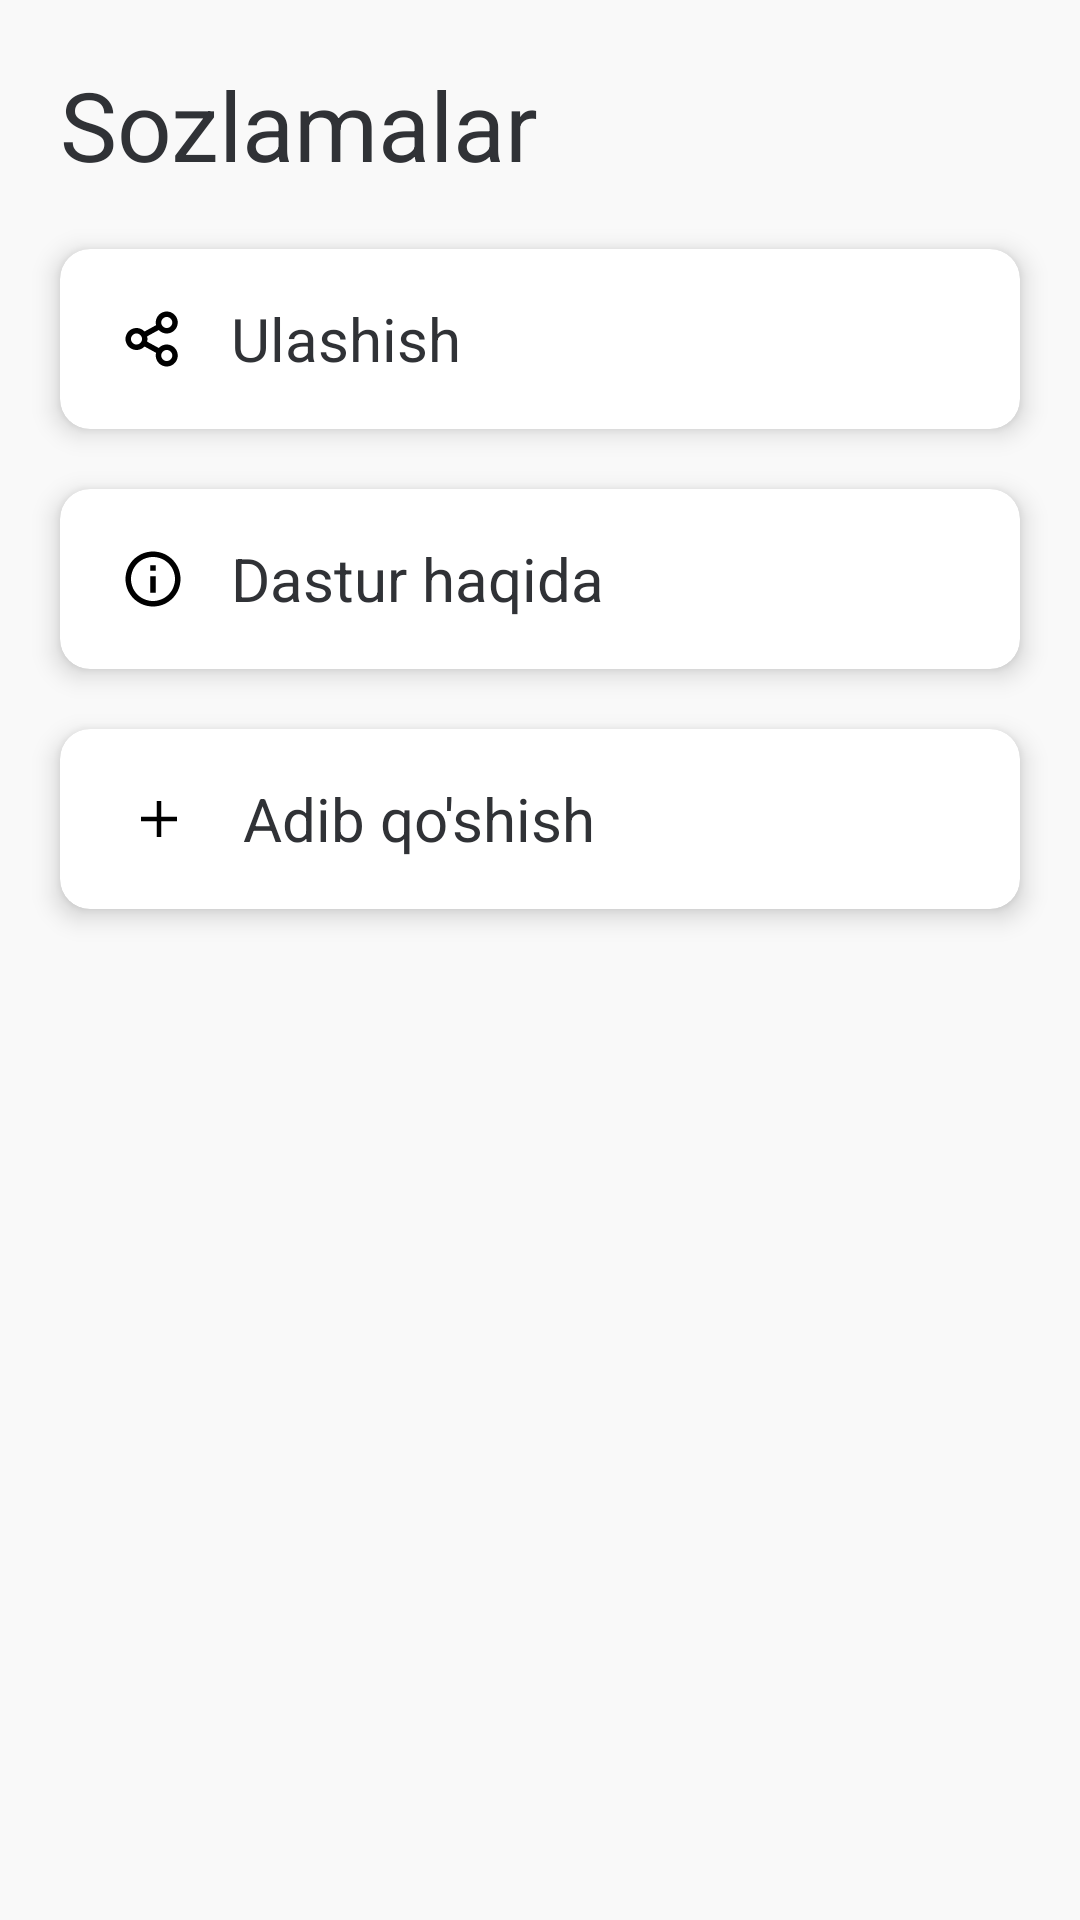

Screen size 1080w x 1920h. Icon name, then its box in pixels as box(x1, y1, x2, y2):
add: box(141, 801, 177, 837)
info: box(125, 551, 181, 607)
share: box(125, 311, 178, 367)
